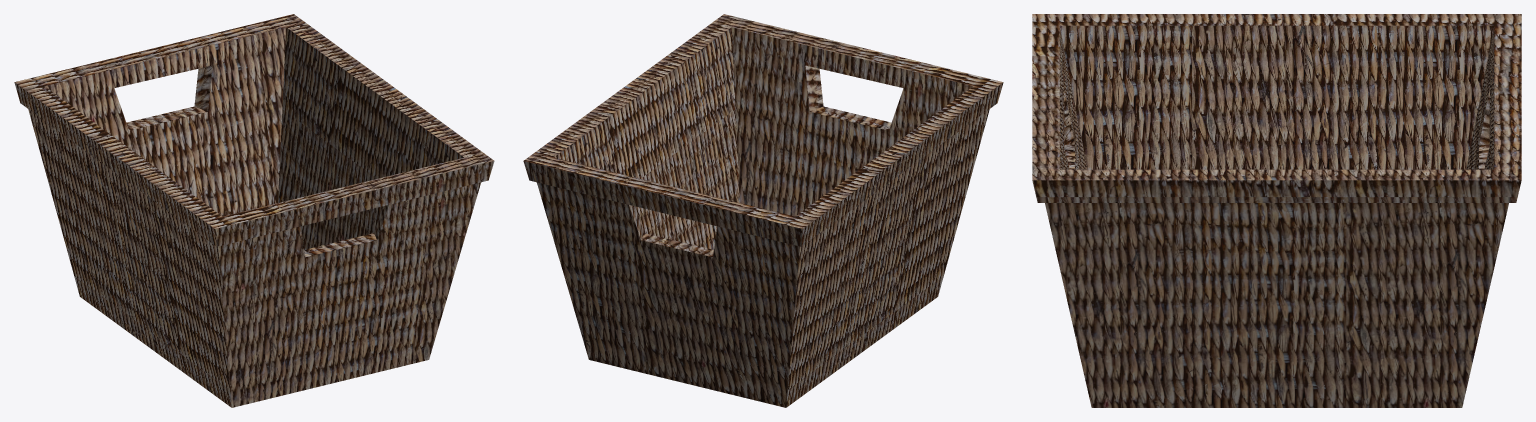
Rendered from Kärpänen_Laatikko.fbx.
3 renders of one model, left to right at view 1: azimuth 30°, elevation 25°; view 2: azimuth 150°, elevation 25°; view 3: azimuth 270°, elevation 25°, orthographic. The views are drawn at different scales.
Parts seen in each view (by area): view 1: Cube.011; view 2: Cube.011; view 3: Cube.011.
Boxes of the visible parts, bbox=[...] form: Cube.011: bbox=[14, 14, 494, 407]; Cube.011: bbox=[523, 14, 1003, 407]; Cube.011: bbox=[1032, 14, 1521, 407].
Bounding box in the file's own units: 794 × 561 × 987.
Materials: 1 (1 with a texture image).
